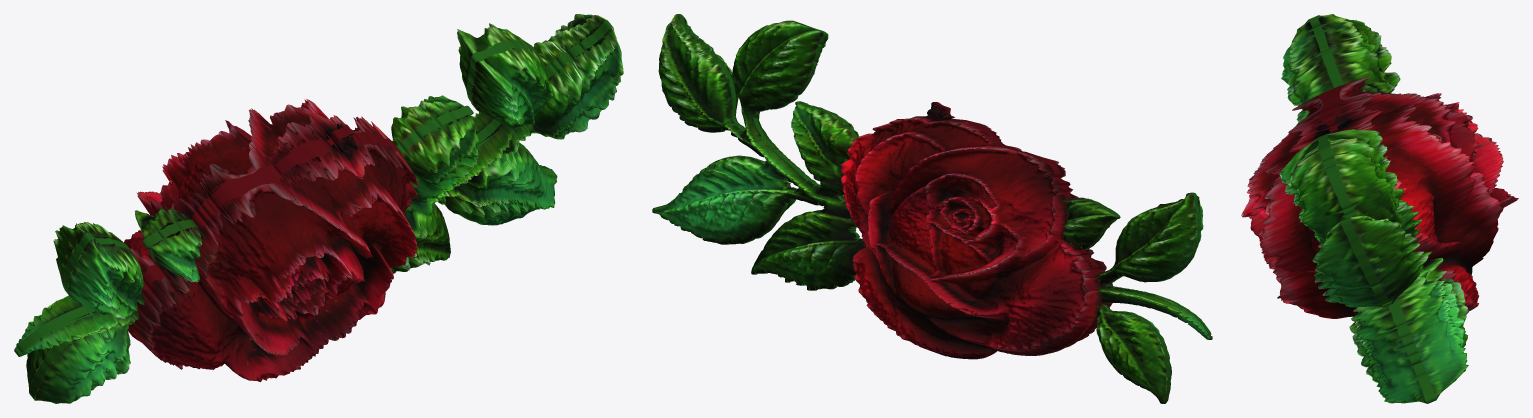
File: iconRosa.glb
The picture shows the model from 3 angles, left to right: view 1: azimuth 30°, elevation 25°; view 2: azimuth 150°, elevation 25°; view 3: azimuth 270°, elevation 25°; orthographic projection. The views are drawn at different scales.
Parts seen in each view (by area): view 1: node_id5, node_id8; view 2: node_id5, node_id8; view 3: node_id8, node_id5.
Part boxes in pixels (box(x1,y1,x2,y2)): node_id5: box(124, 99, 419, 381); node_id8: box(14, 14, 623, 403); node_id5: box(841, 102, 1112, 359); node_id8: box(652, 14, 1212, 403); node_id8: box(1279, 14, 1468, 403); node_id5: box(1241, 76, 1518, 318).
Size of the model in its own units: 0.5006 by 0.2331 by 0.1918.
2 materials, 2 textured.
